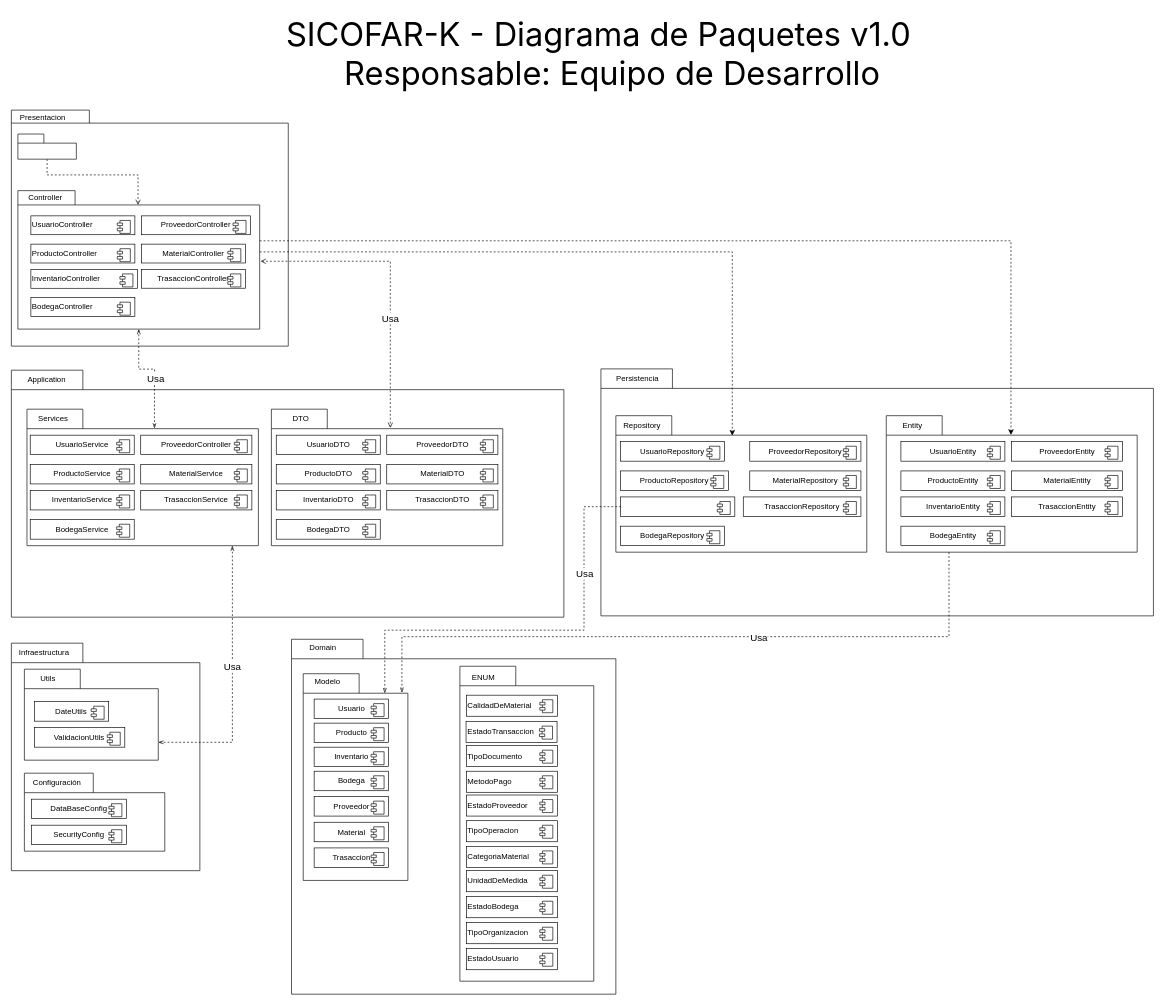
Image size: 1165x1006. Some labels were removed from this diagram. Each missing label, with the box of its shape:
API: (17, 133, 76, 159)
Inventario Repository: (620, 496, 735, 516)
